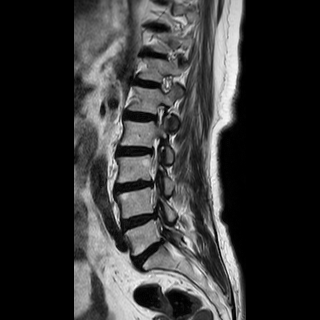LFS0: (145, 97, 173, 131)
